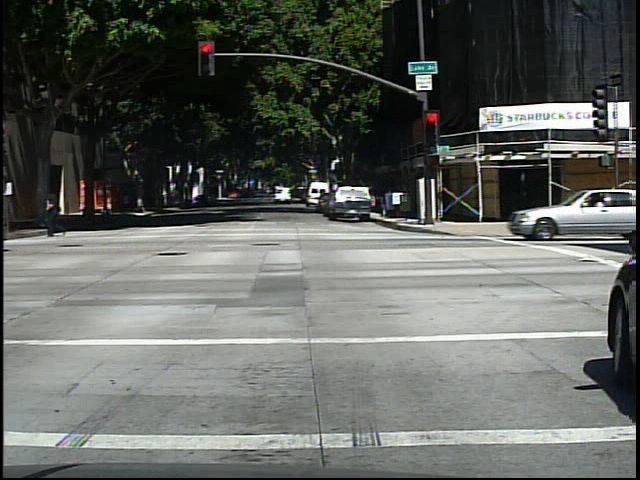person: (43, 187, 70, 240)
